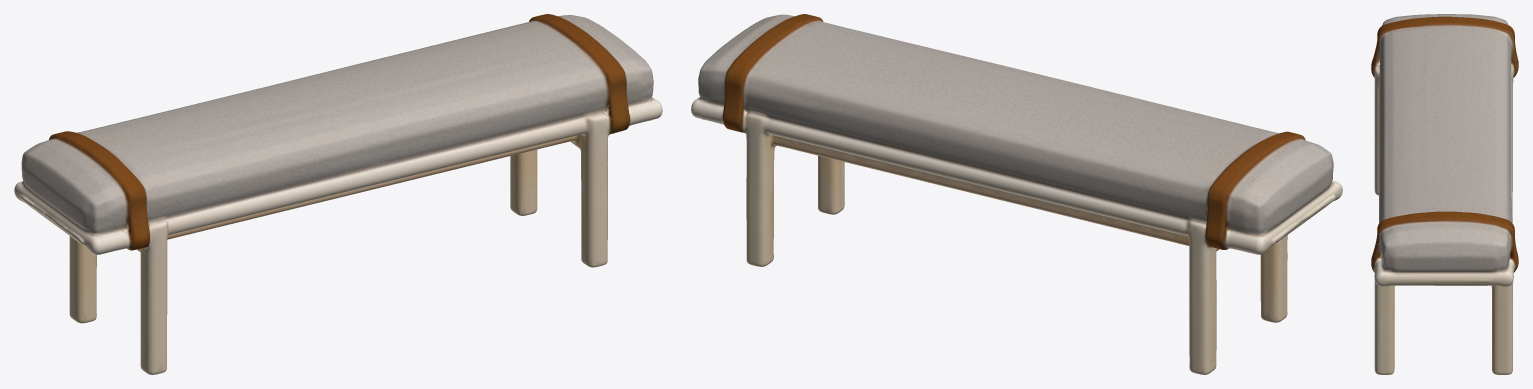
The model's file is product-bohemian-ines-bench-01.glb.
The picture shows the model from 3 angles, left to right: view 1: azimuth 30°, elevation 25°; view 2: azimuth 150°, elevation 25°; view 3: azimuth 270°, elevation 25°; orthographic projection. The views are drawn at different scales.
Visible parts, largest first — view 1: geometry_0; view 2: geometry_0; view 3: geometry_0.
Part boxes in pixels (x1,y1,x2,y2): geometry_0: [14, 14, 662, 374]; geometry_0: [691, 14, 1342, 374]; geometry_0: [1371, 14, 1518, 374].
Size of the model in its own units: 1.98 by 0.6575 by 0.5302.
Materials: 1 (1 with a texture image).
